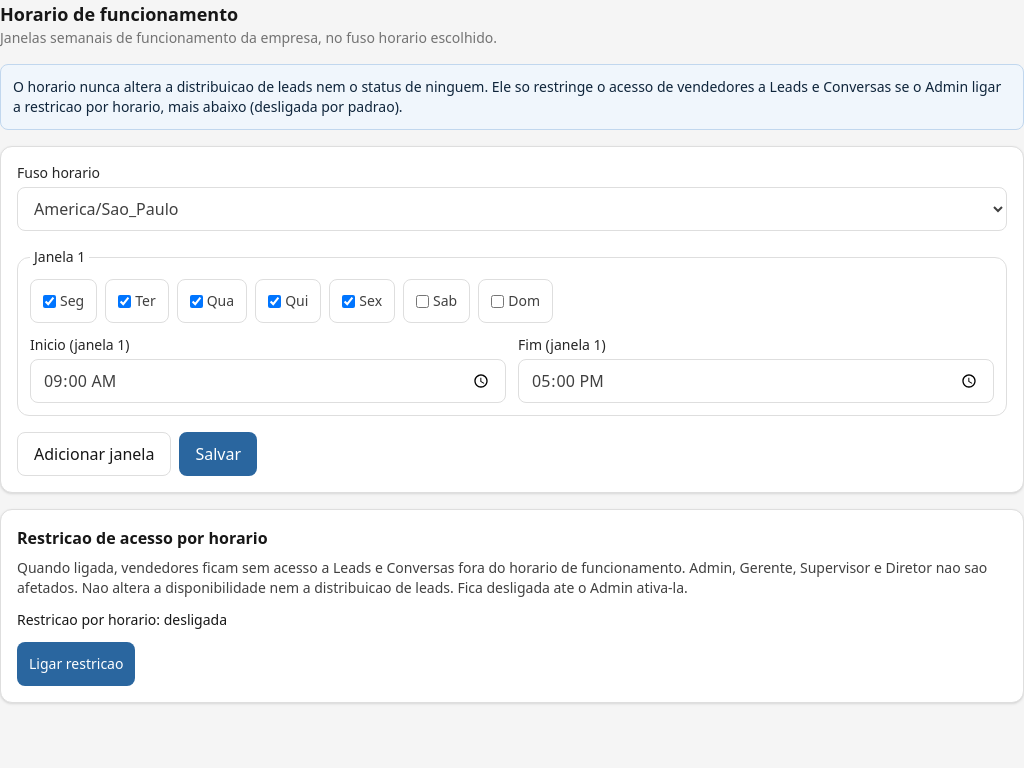
BusinessHoursPage › 403 ao salvar mostra mensagem de permissao
This screenshot has width=1024, height=768.
Step 1. Click the button "Salvar" → click(218, 454), box [179,432,257,476]
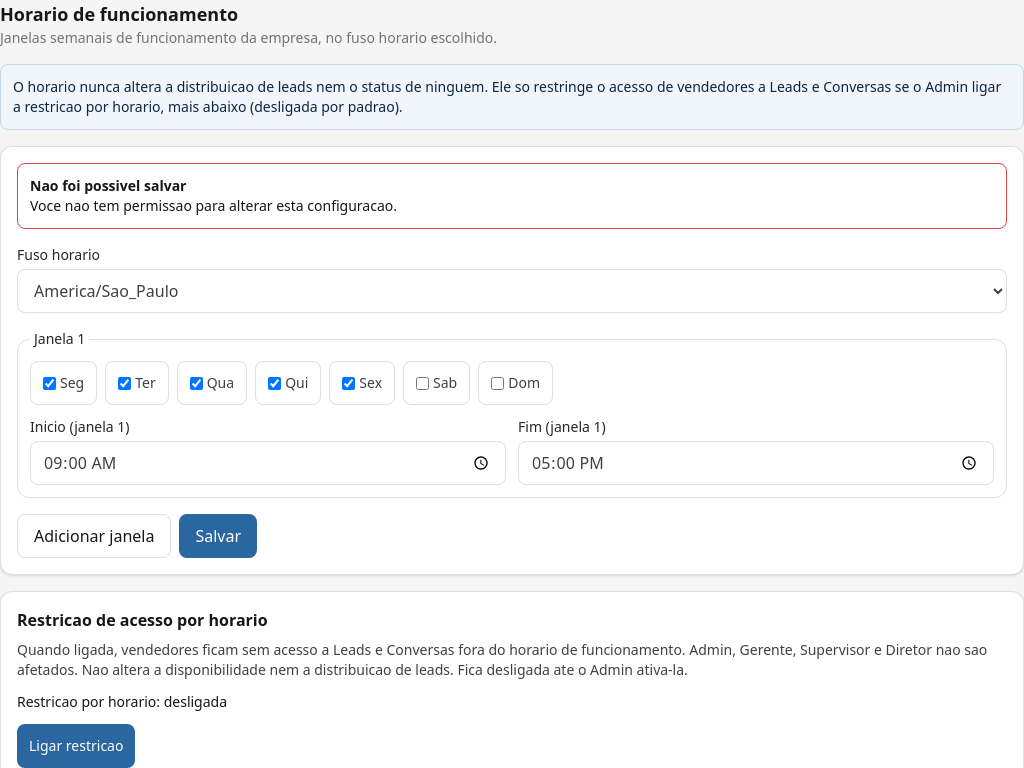
Result: the text "Voce nao tem permissao para alterar esta configuracao." is shown at [30,196,397,215]
